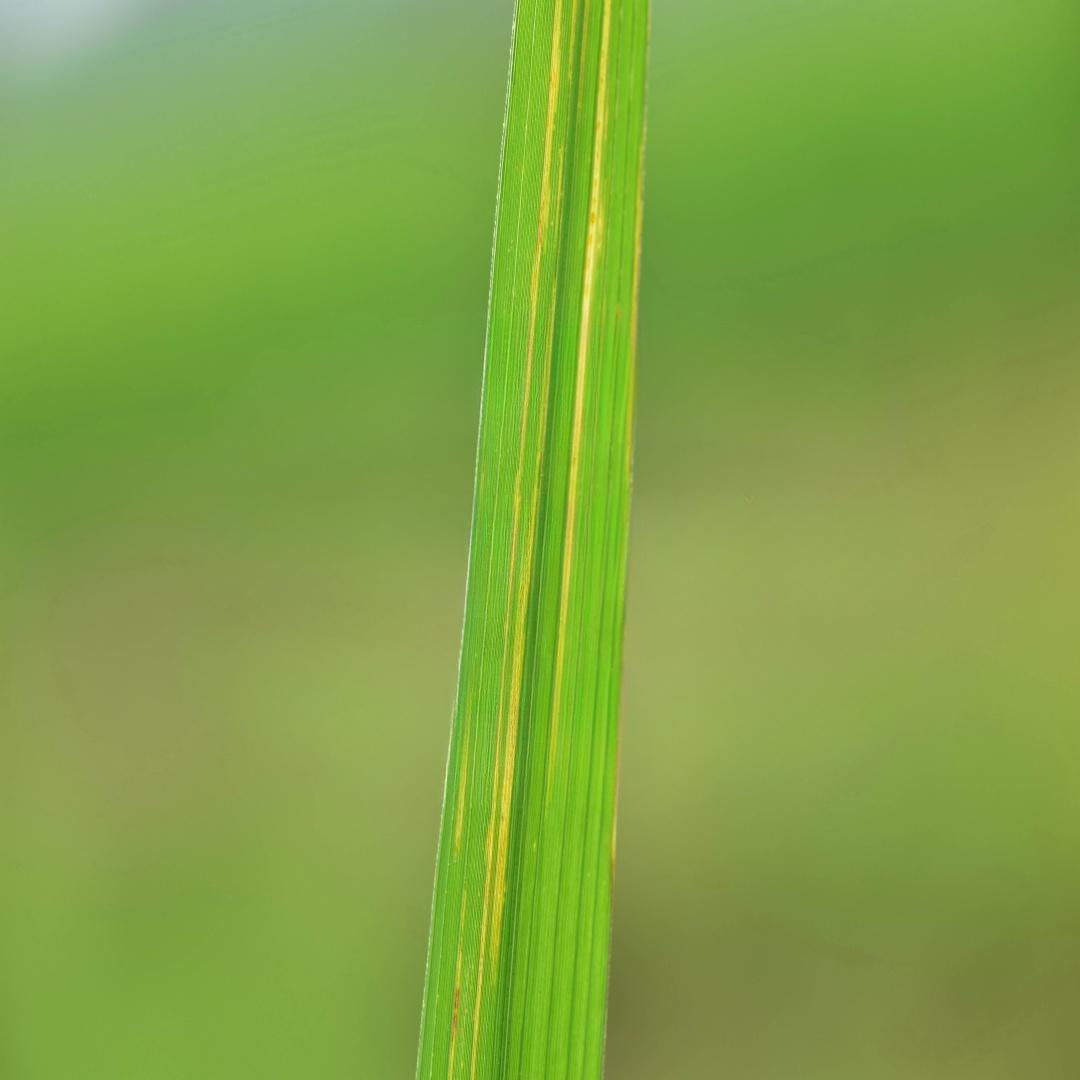BLS: (469, 1, 562, 1079), (489, 207, 563, 982), (549, 0, 612, 808), (449, 890, 467, 1079), (455, 737, 470, 844), (555, 144, 565, 243), (568, 0, 577, 89)
LEAF: (418, 0, 648, 1079)
